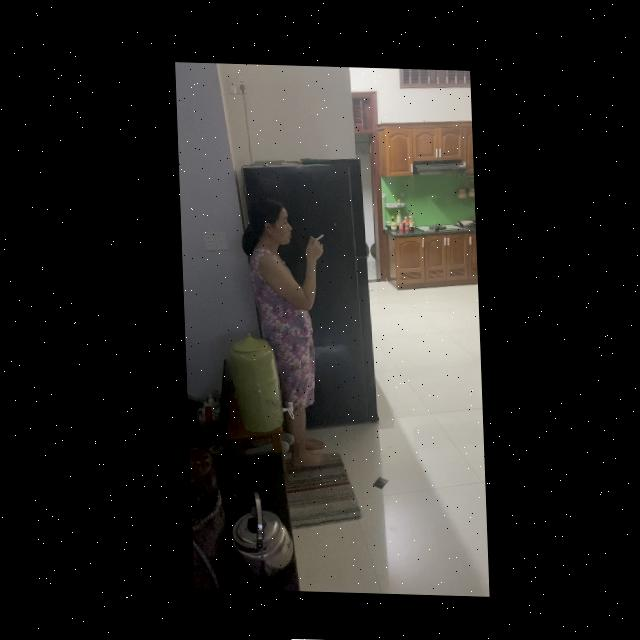cigarette: (314, 233, 322, 240)
